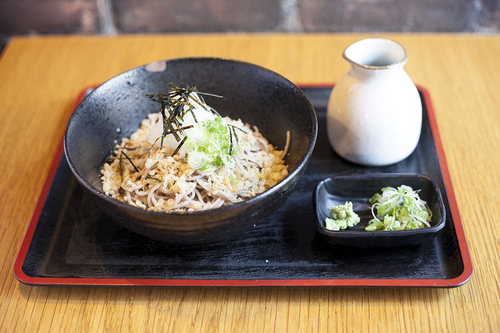Soba: (105, 118, 297, 215)
